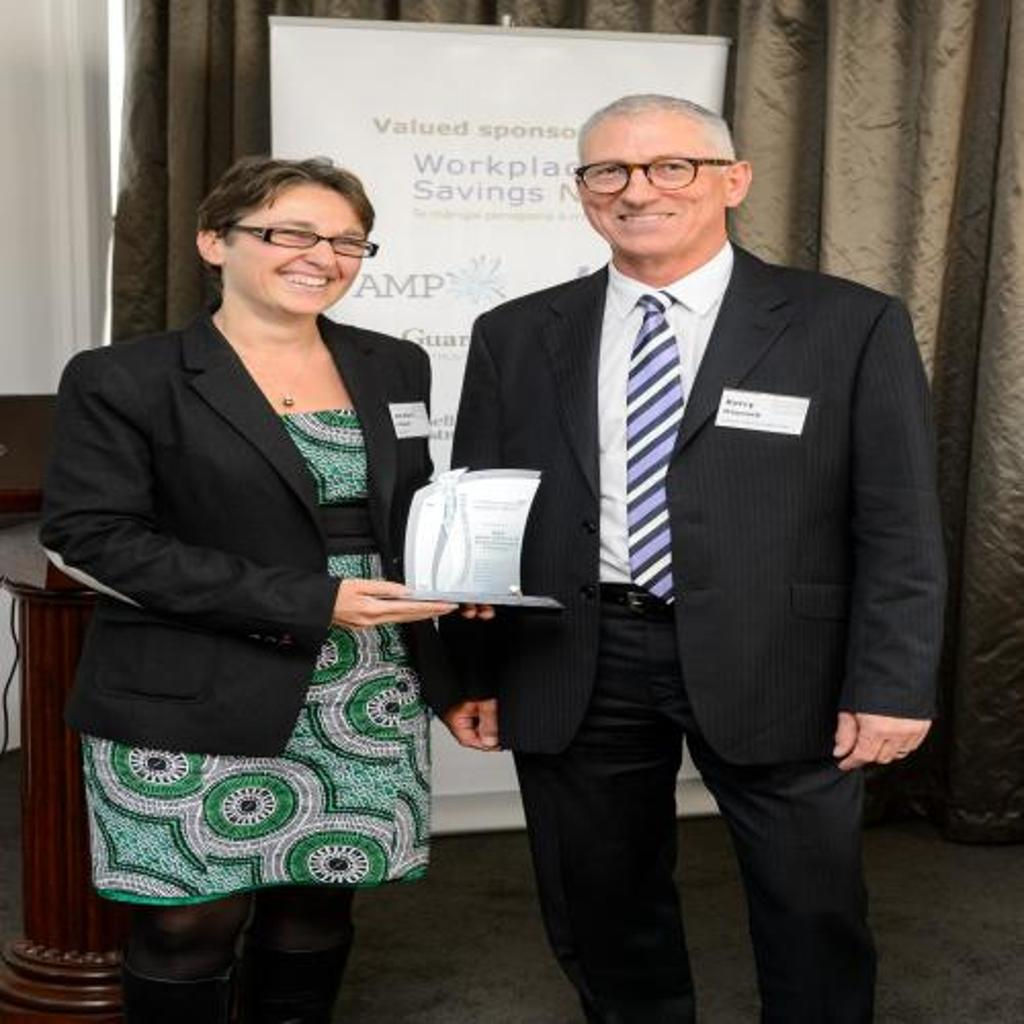face: (580, 108, 724, 258), (224, 178, 368, 318)
